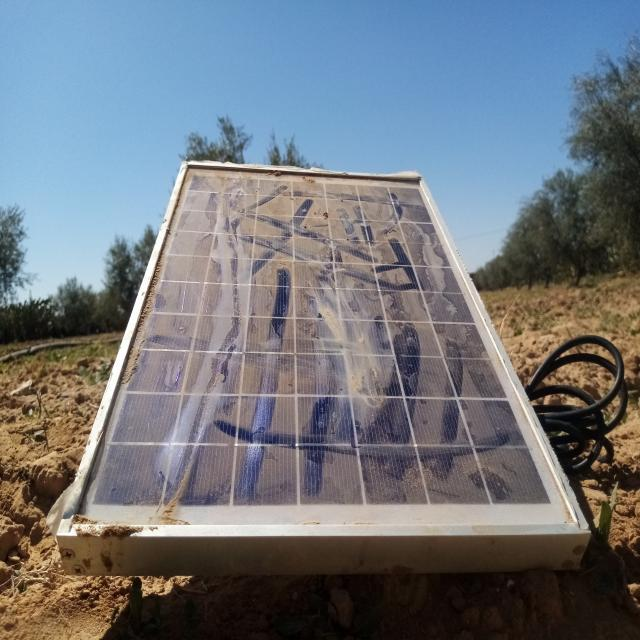faulty: (65, 161, 584, 532)
